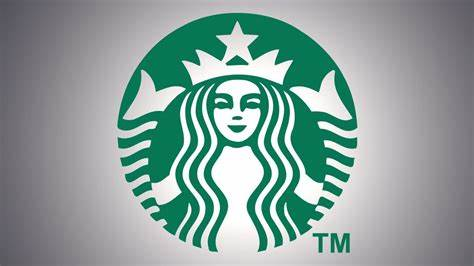starbucks Originale: (108, 5, 376, 264)
